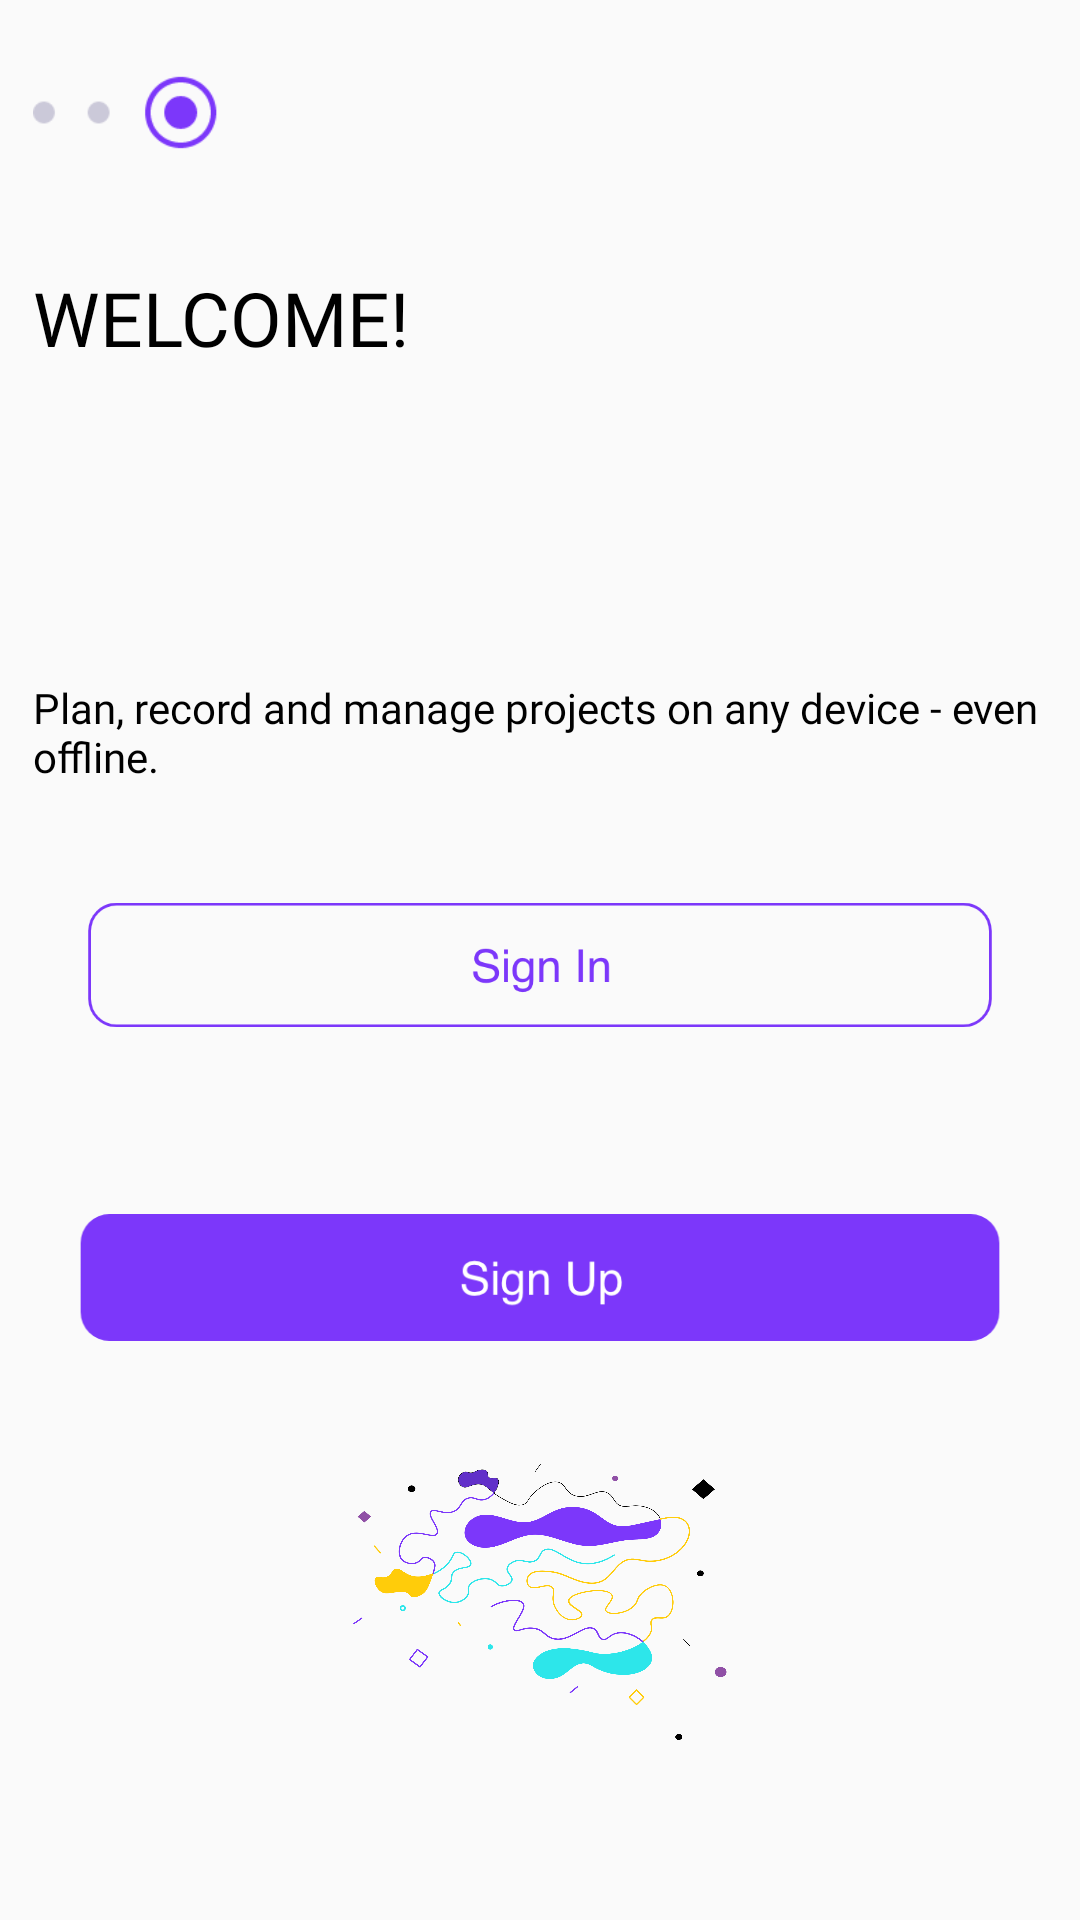

Icon click points for this 1080*1920 phone screenshot, format point (x, y):
dot: point (125, 112)
